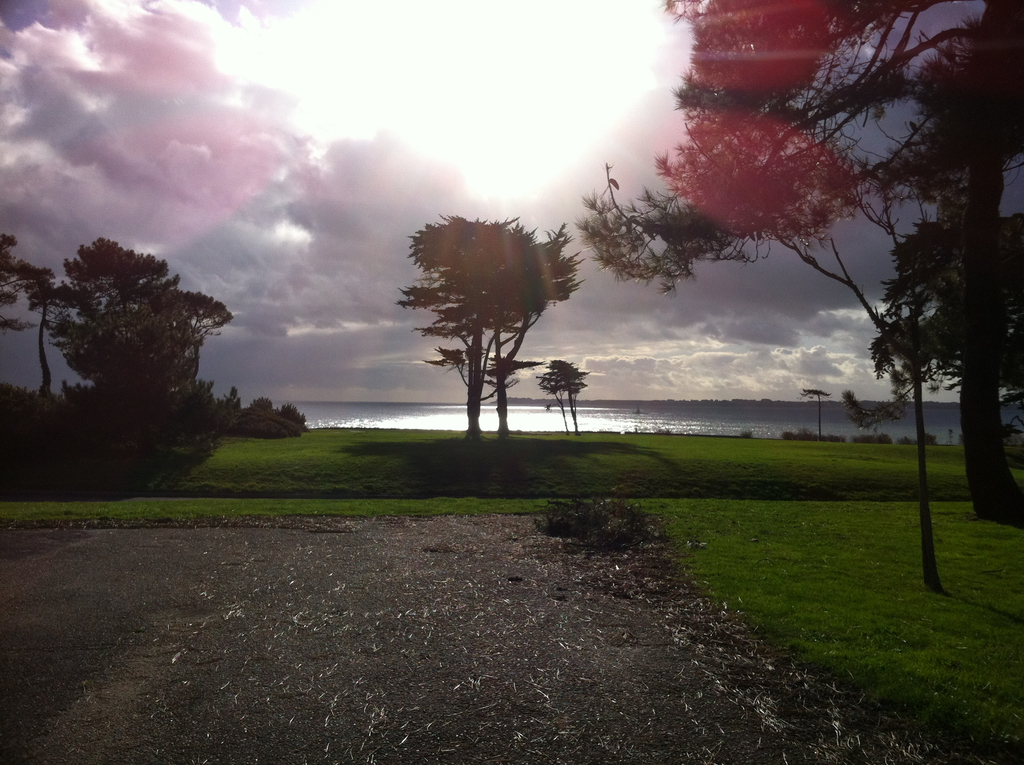Tree: (662, 0, 1023, 519), (385, 186, 583, 436), (0, 234, 229, 444)
